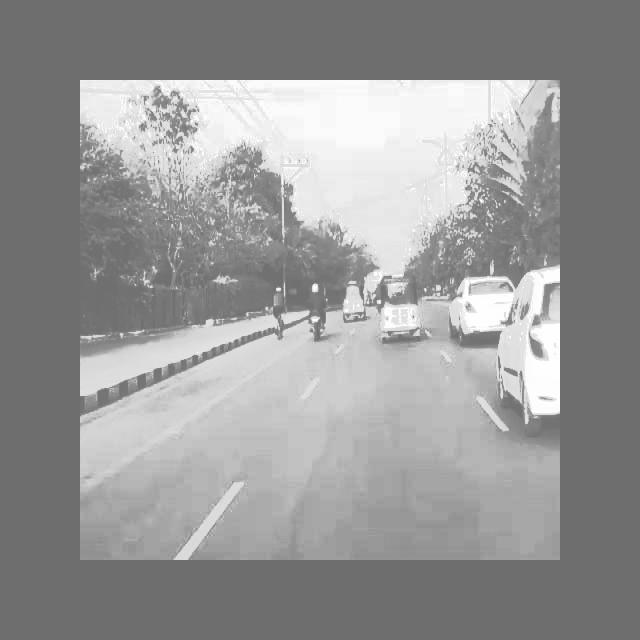Car: (497, 268, 559, 442), (446, 275, 513, 343)
